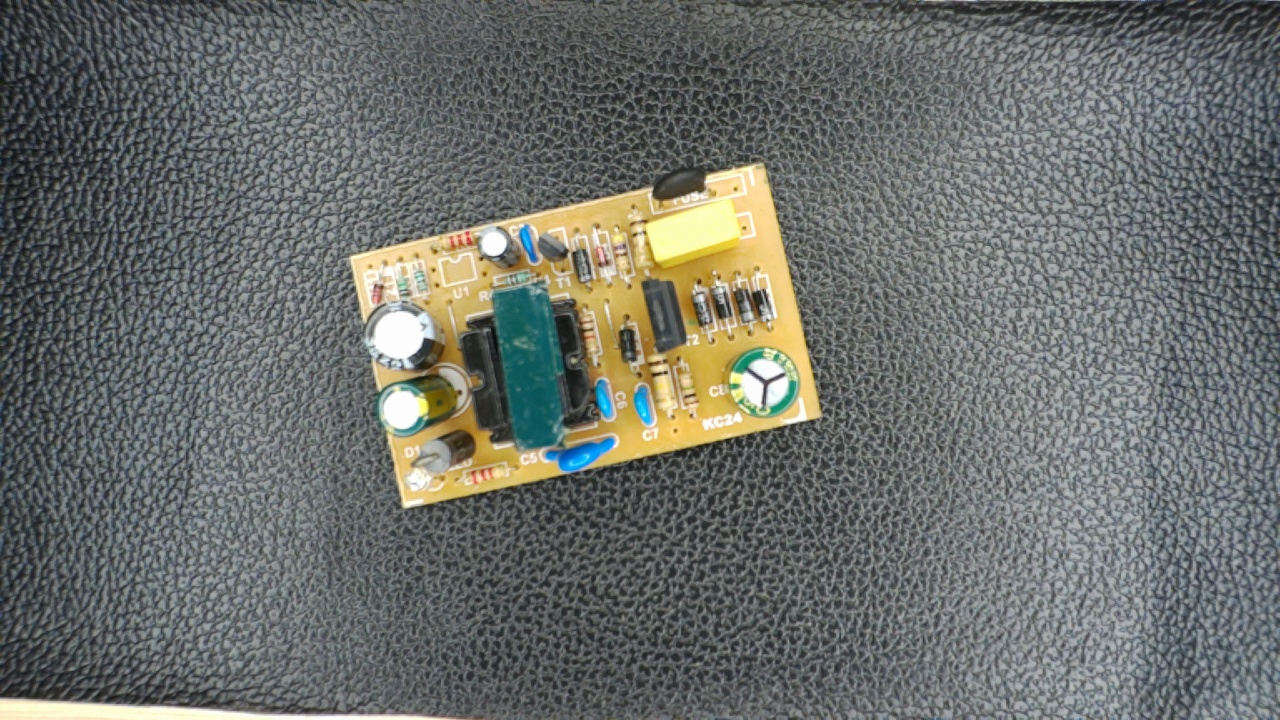fuse: (645, 167, 720, 210)
hv_capacitor: (723, 344, 804, 422)
mov: (537, 432, 620, 474)
